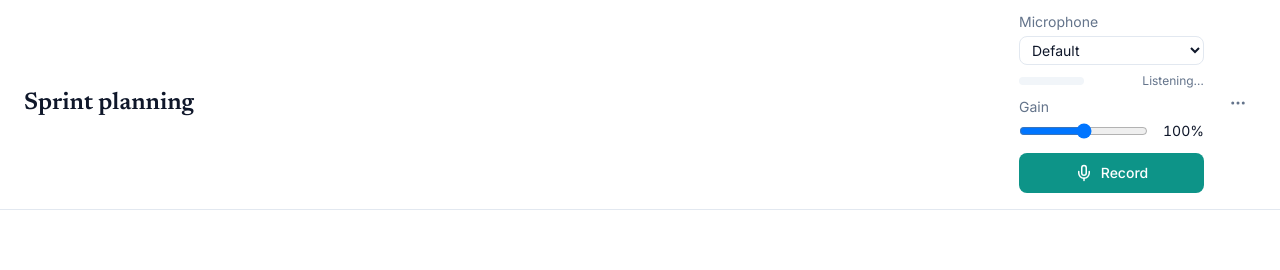
it: NoteHeader › closes the menu when Escape is pressed
This screenshot has width=1280, height=270.
Click the button named "note actions" at x=1238, y=102, box [1220,84,1256,120]
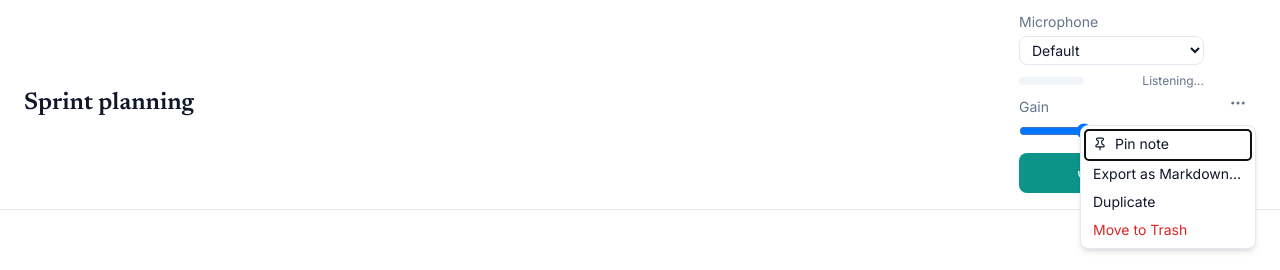
Result: the menu item "Move to Trash" is shown at [1085,216,1251,244]
Press Escape
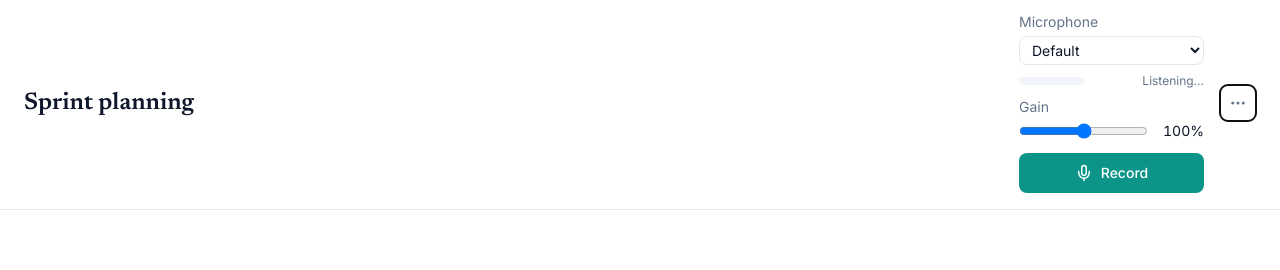
Result: the menu item "Move to Trash" is gone
